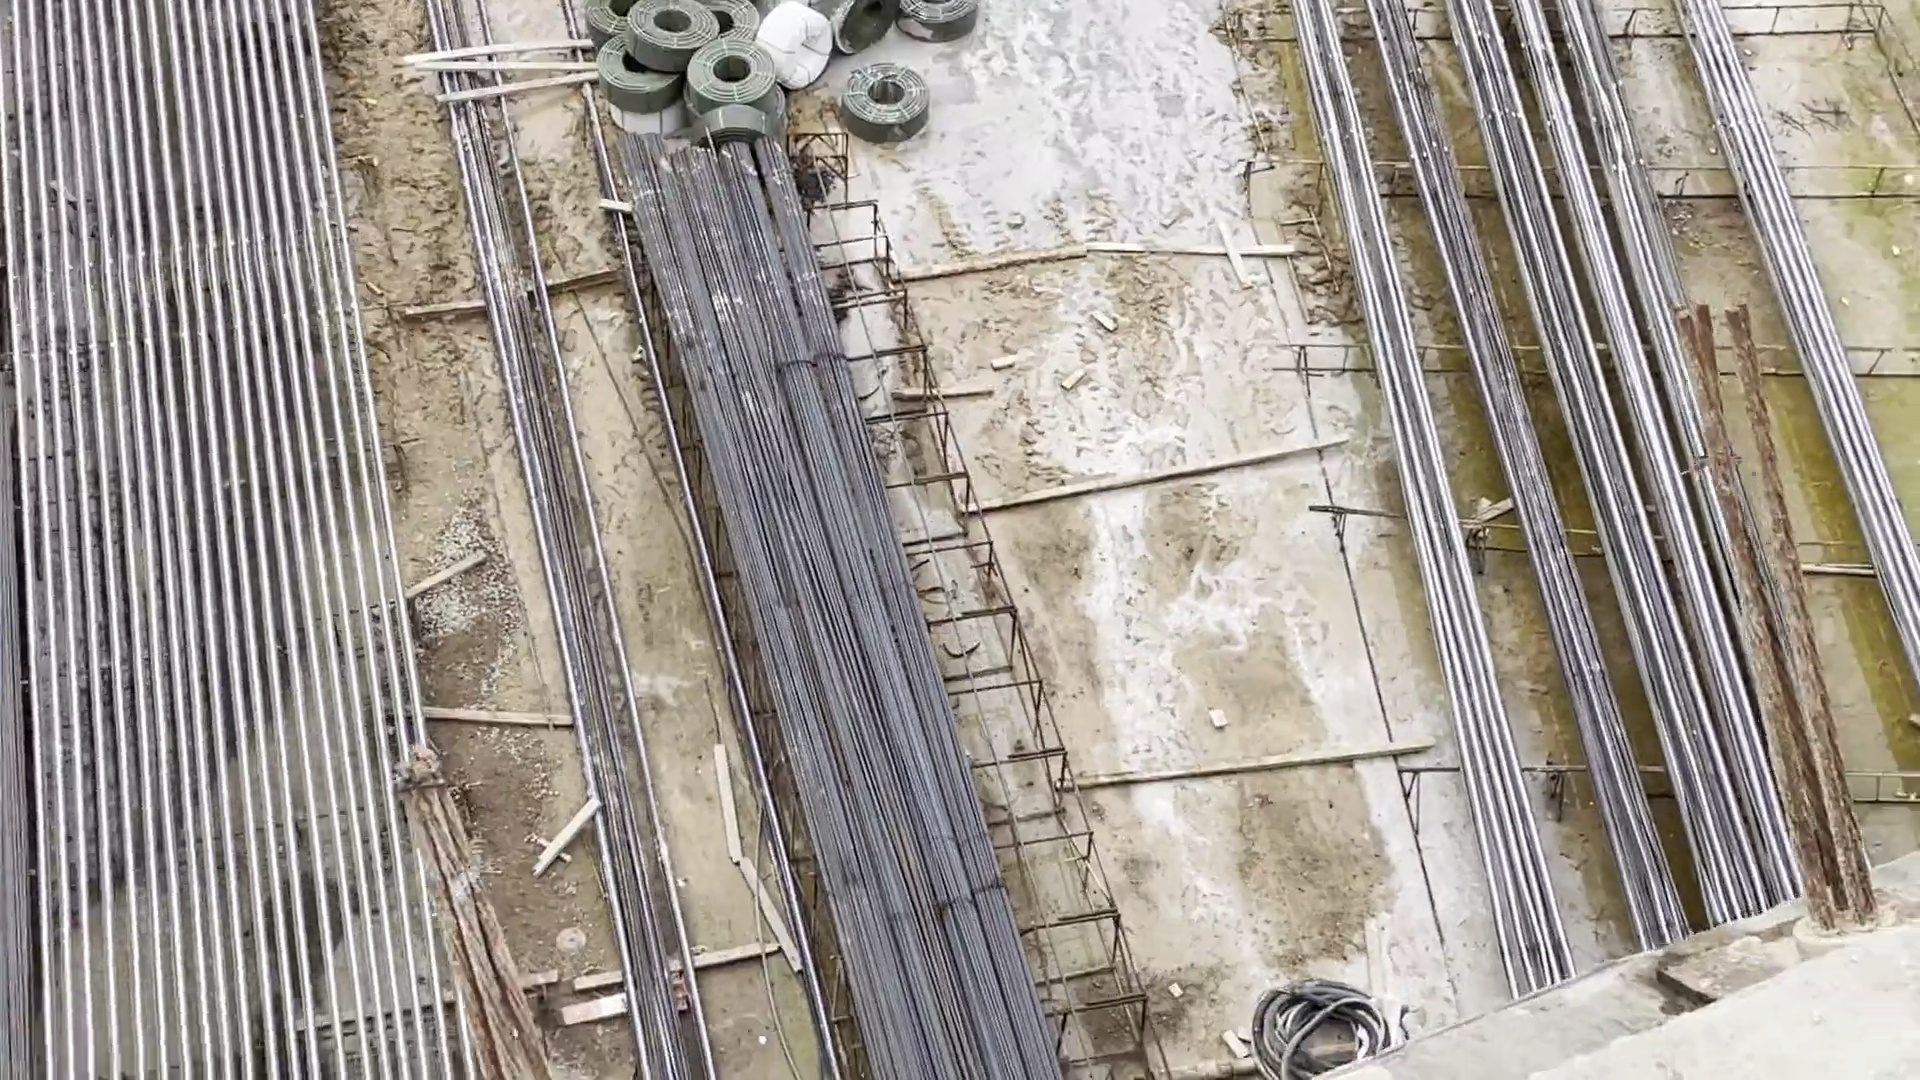rebar: (642, 149, 1019, 1059), (1382, 1, 1706, 982)
